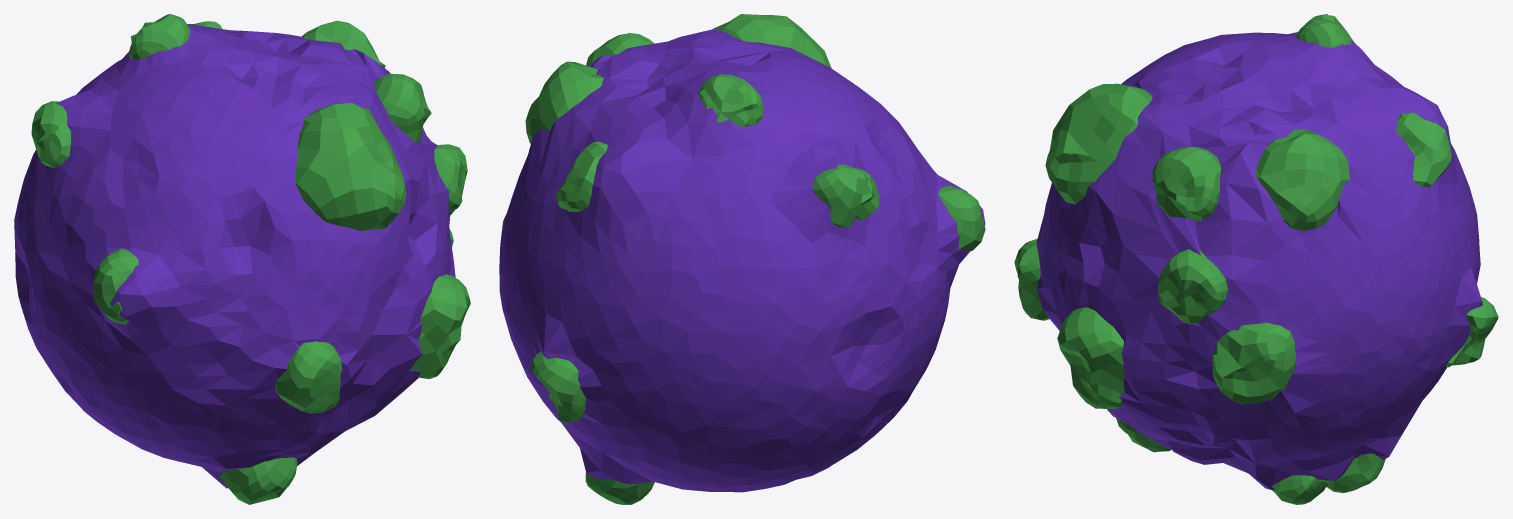
File: Planet_36.glb
3 renders of one model, left to right at view 1: azimuth 30°, elevation 25°; view 2: azimuth 150°, elevation 25°; view 3: azimuth 270°, elevation 25°, orthographic. The views are drawn at different scales.
Parts seen in each view (by area): view 1: Planet_36; view 2: Planet_36; view 3: Planet_36.
Part boxes in pixels (x1,y1,x2,y2): Planet_36: [14, 14, 470, 504]; Planet_36: [499, 14, 985, 504]; Planet_36: [1014, 14, 1498, 504].
Bounding box in the file's own units: 21.08 × 21.46 × 22.01.
Materials: 1 (1 with a texture image).
